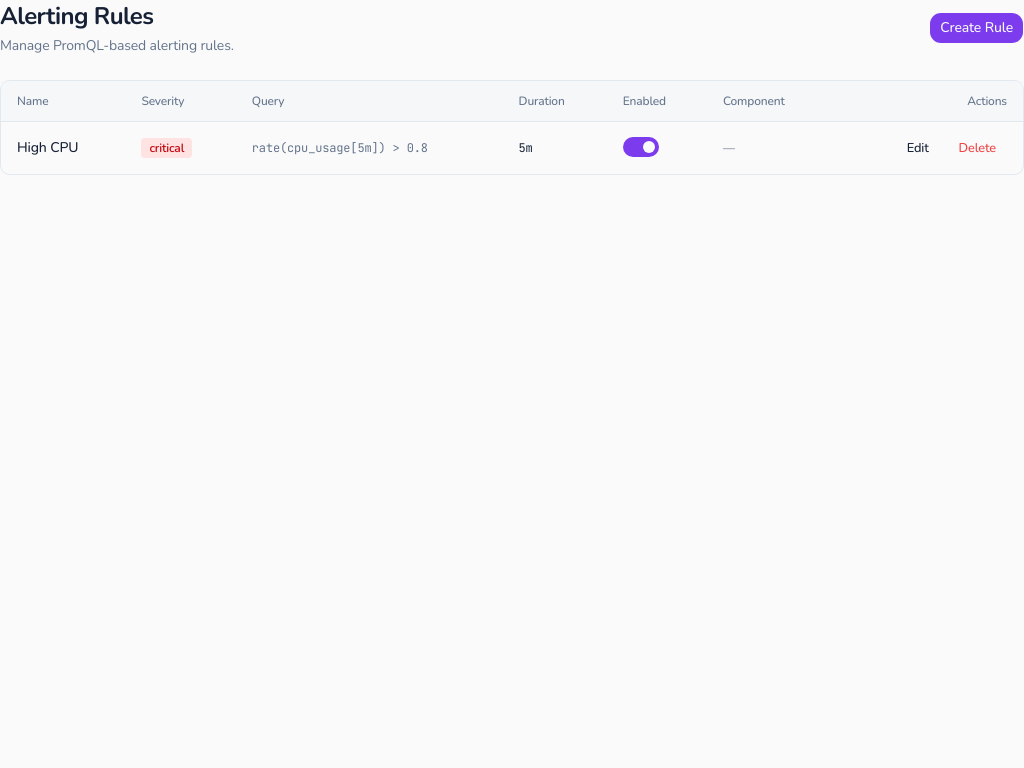
Test case: AlertingRulesPage › shows delete confirmation dialog on delete click
Expected: the link "High CPU" is shown, [17,138,78,157]
Click the button "Delete" at (977, 148), box [948,134,1007,162]
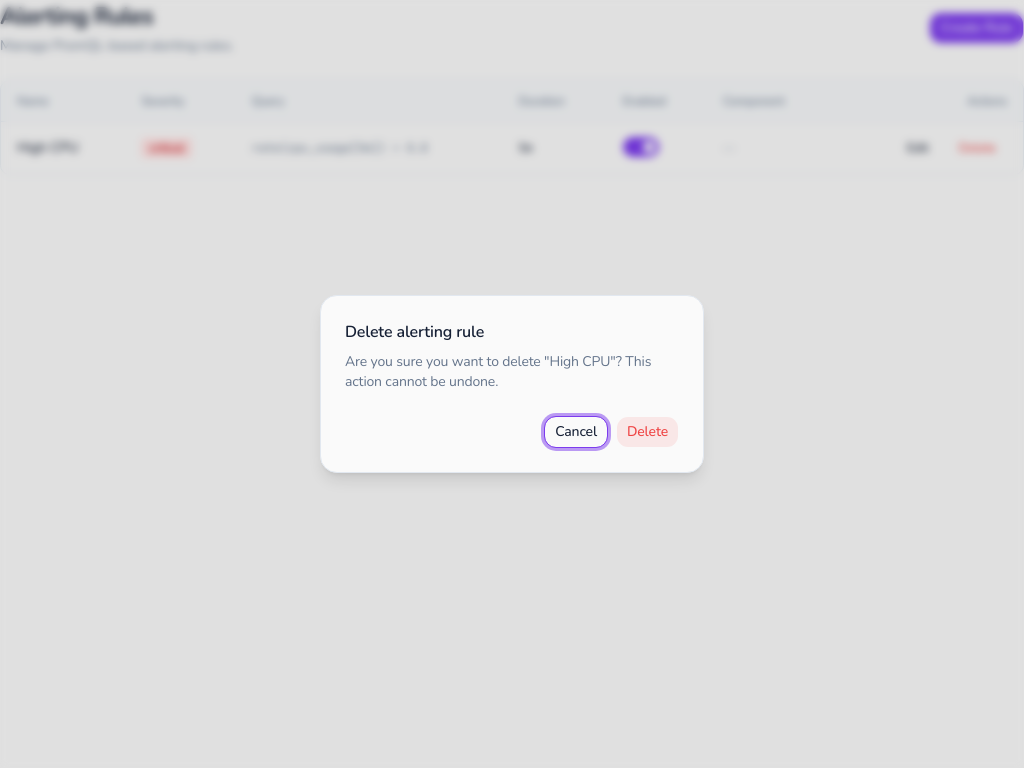
Now the heading "Delete alerting rule" is shown, box [345,321,484,343]
